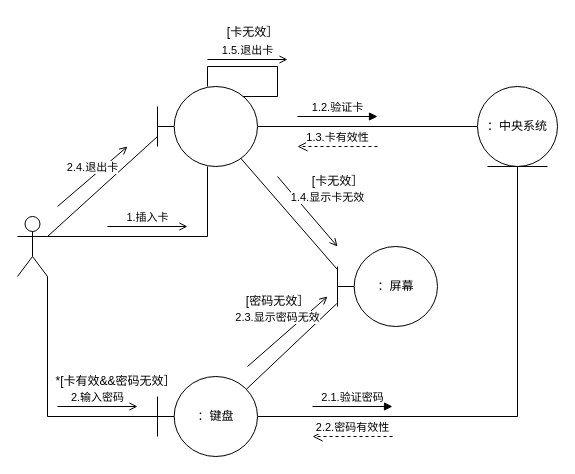
The diagram is 575 pixels wide and 474 high, and some of its shapes have lost their labels. The shapes that lost their labels are listed below. From the top down, each one's box as (x1, y1, x2, y2) in pixels, then its label:
(156, 86, 258, 166): ：读卡器
(16, 216, 48, 276): 用户
